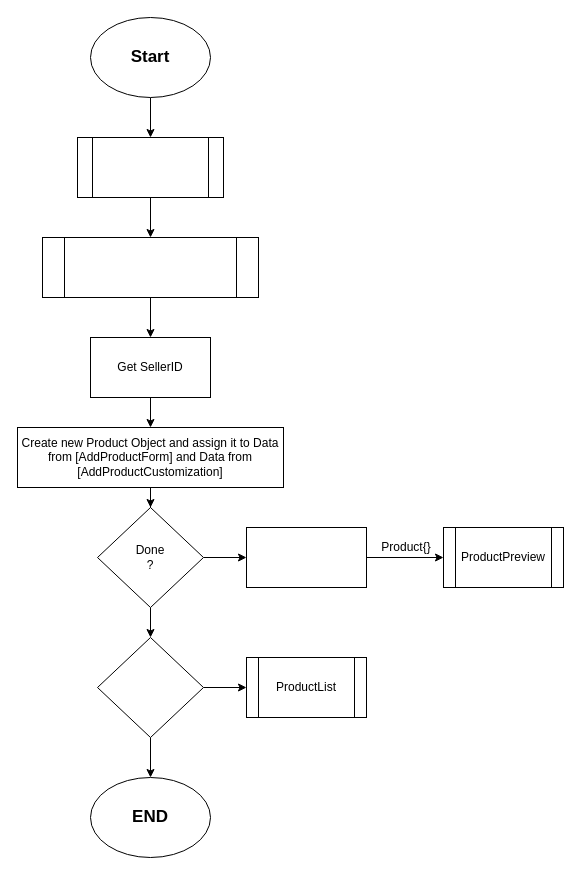
Image size: 581x875. Some labels were removed from this diagram. The shapes that lost their labels are listed below. From the top down, each one's box as (x1, y1, x2, y2) in pixels, then its label:
(76, 136, 224, 198): AddProductForm
(42, 236, 258, 298): AddProductCustomization
(246, 526, 366, 588): Create new product doc with the created Product object
(96, 636, 204, 738): My Product List ?
